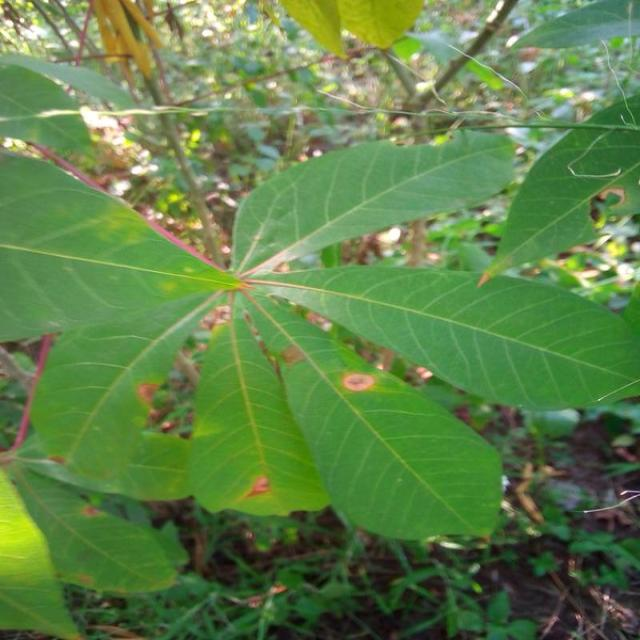cassava leaf: (248, 260, 640, 413), (278, 340, 505, 542), (231, 126, 517, 277), (479, 90, 640, 284), (189, 310, 333, 518)
